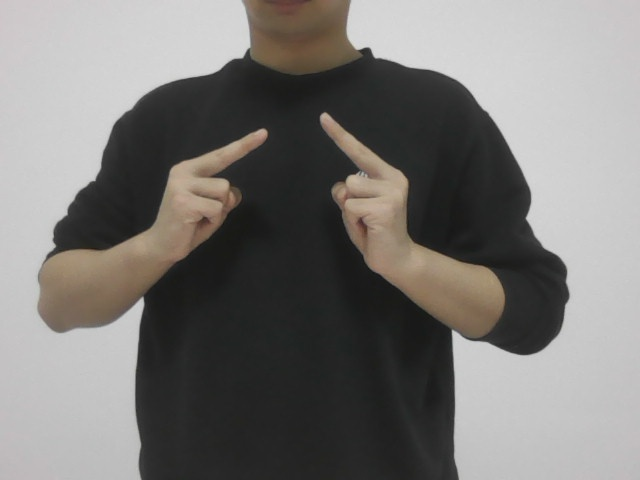know: (152, 105, 416, 300)
